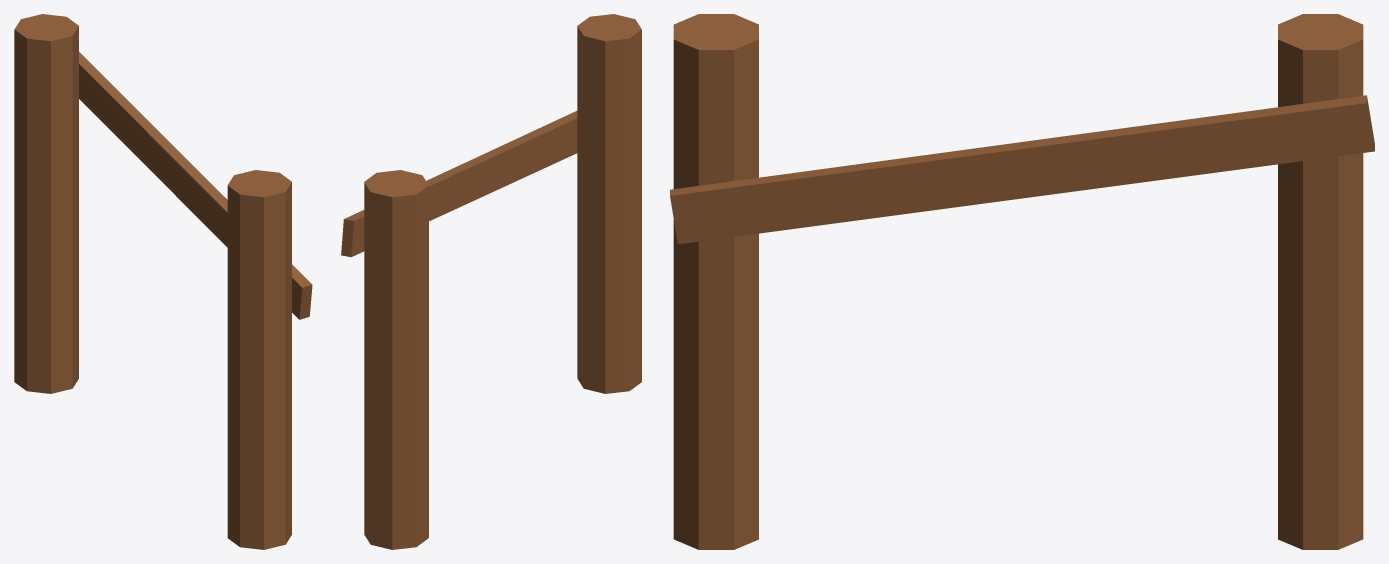
The model's file is Barrier 1.fbx.
3 renders of one model, left to right at view 1: azimuth 30°, elevation 25°; view 2: azimuth 150°, elevation 25°; view 3: azimuth 270°, elevation 25°, orthographic. The views are drawn at different scales.
Visible parts, largest first — view 1: Barrier; view 2: Barrier; view 3: Barrier.
Boxes of the visible parts, x1,y1,x2,y2 form: Barrier: (14,14,312,549); Barrier: (341,14,641,549); Barrier: (670,14,1374,549).
Bounding box in the file's own units: 53.22 × 288 × 368.
